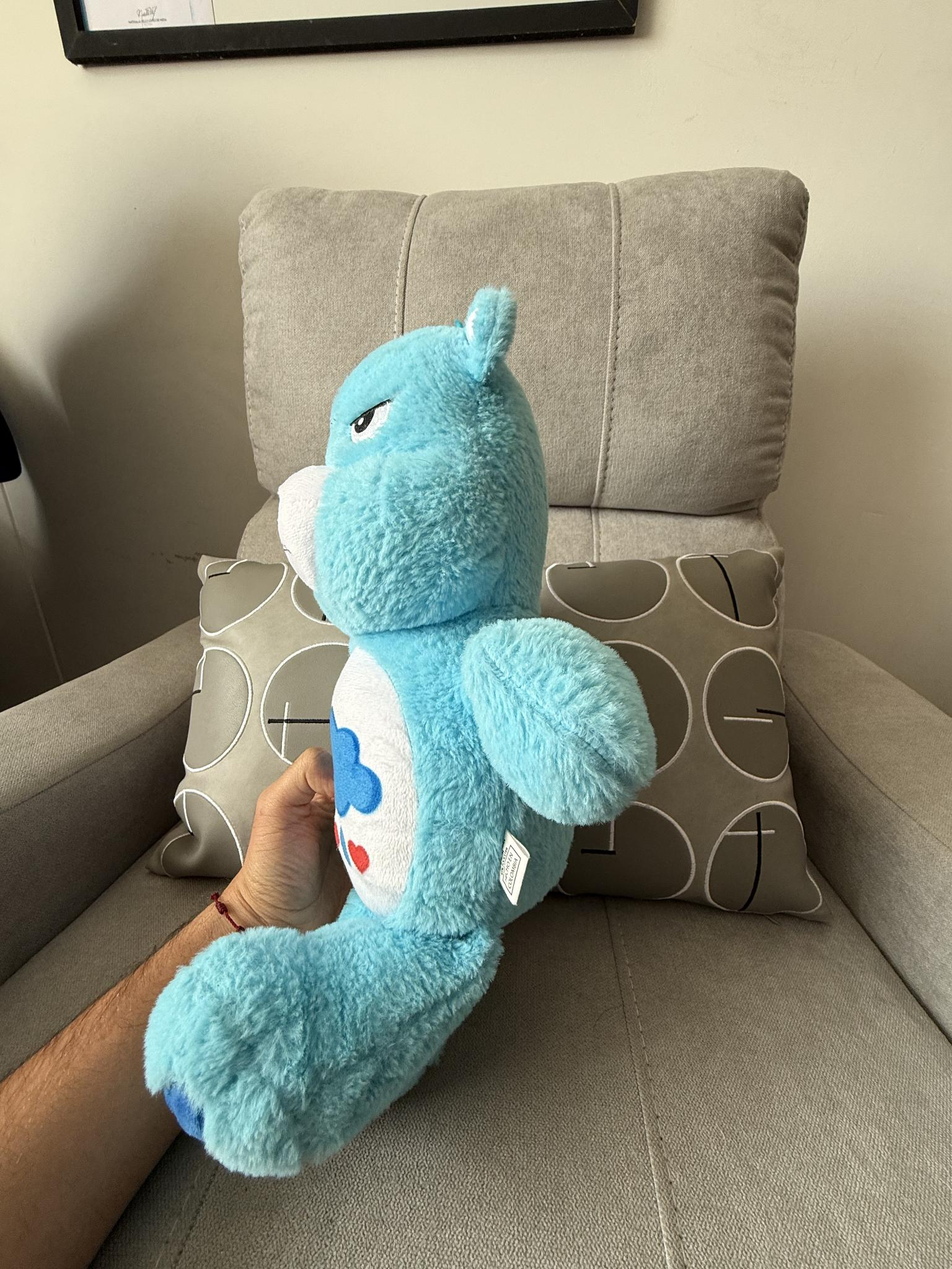peluche_Juan Jose: (139, 285, 649, 1179)
